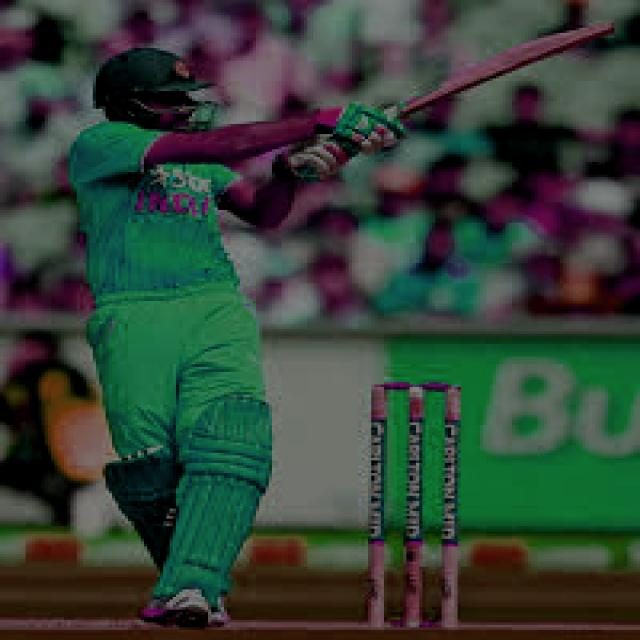toe: (583, 15, 625, 38)
